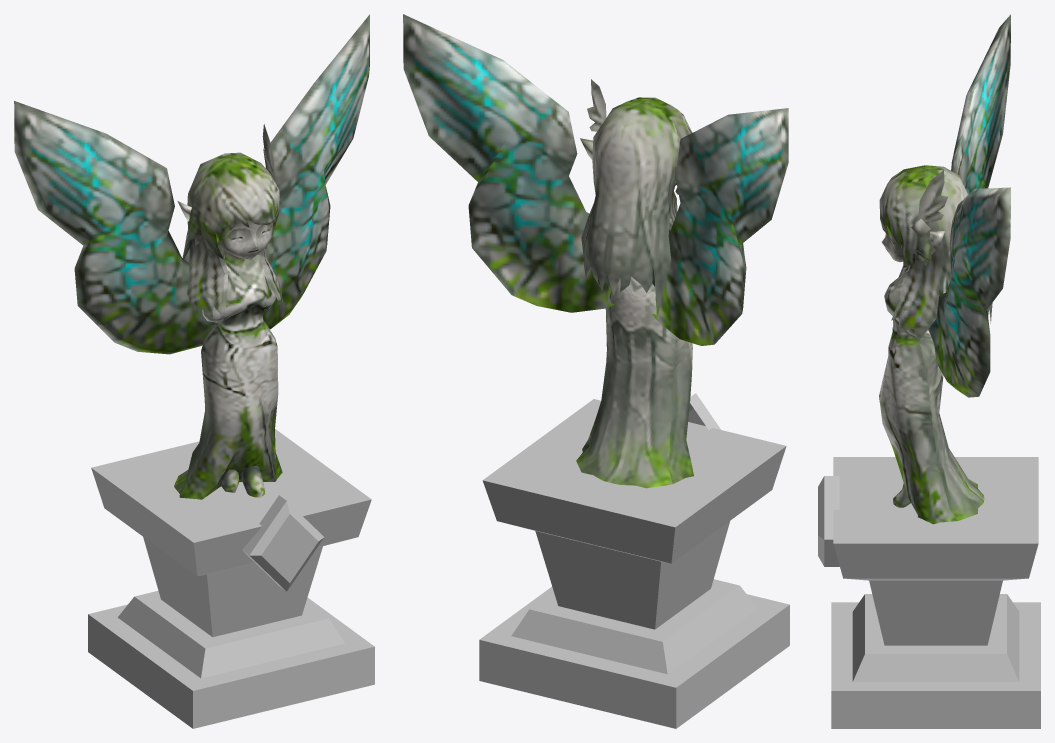
File: F02_elfstone01.FBX
3 views of the same model, side by side, from view 1: azimuth 30°, elevation 25°; view 2: azimuth 150°, elevation 25°; view 3: azimuth 270°, elevation 25° (orthographic). The views are drawn at different scales.
Visible parts, largest first — view 1: F02_elfstone01_body, F02_elfstone01_a; view 2: F02_elfstone01_body, F02_elfstone01_a; view 3: F02_elfstone01_a, F02_elfstone01_body.
Part boxes in pixels (bbox=[...]): F02_elfstone01_body: bbox=[14, 14, 369, 499]; F02_elfstone01_a: bbox=[88, 429, 374, 728]; F02_elfstone01_body: bbox=[403, 14, 788, 488]; F02_elfstone01_a: bbox=[479, 393, 789, 728]; F02_elfstone01_a: bbox=[818, 457, 1040, 728]; F02_elfstone01_body: bbox=[879, 14, 1010, 524].
Bounding box in the file's own units: 193 × 302 × 105.
